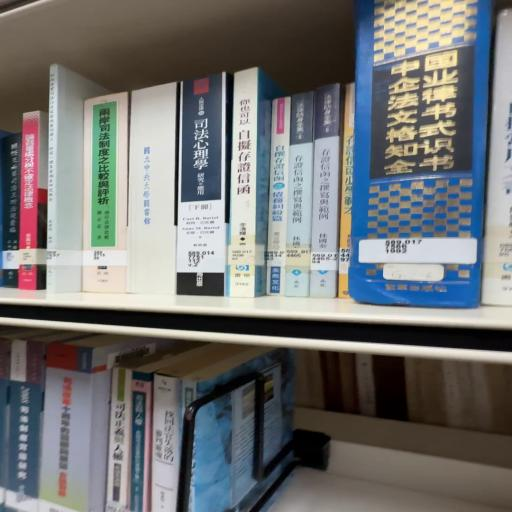backward: (127, 83, 179, 298)
book: (227, 64, 278, 300), (180, 76, 232, 304)
